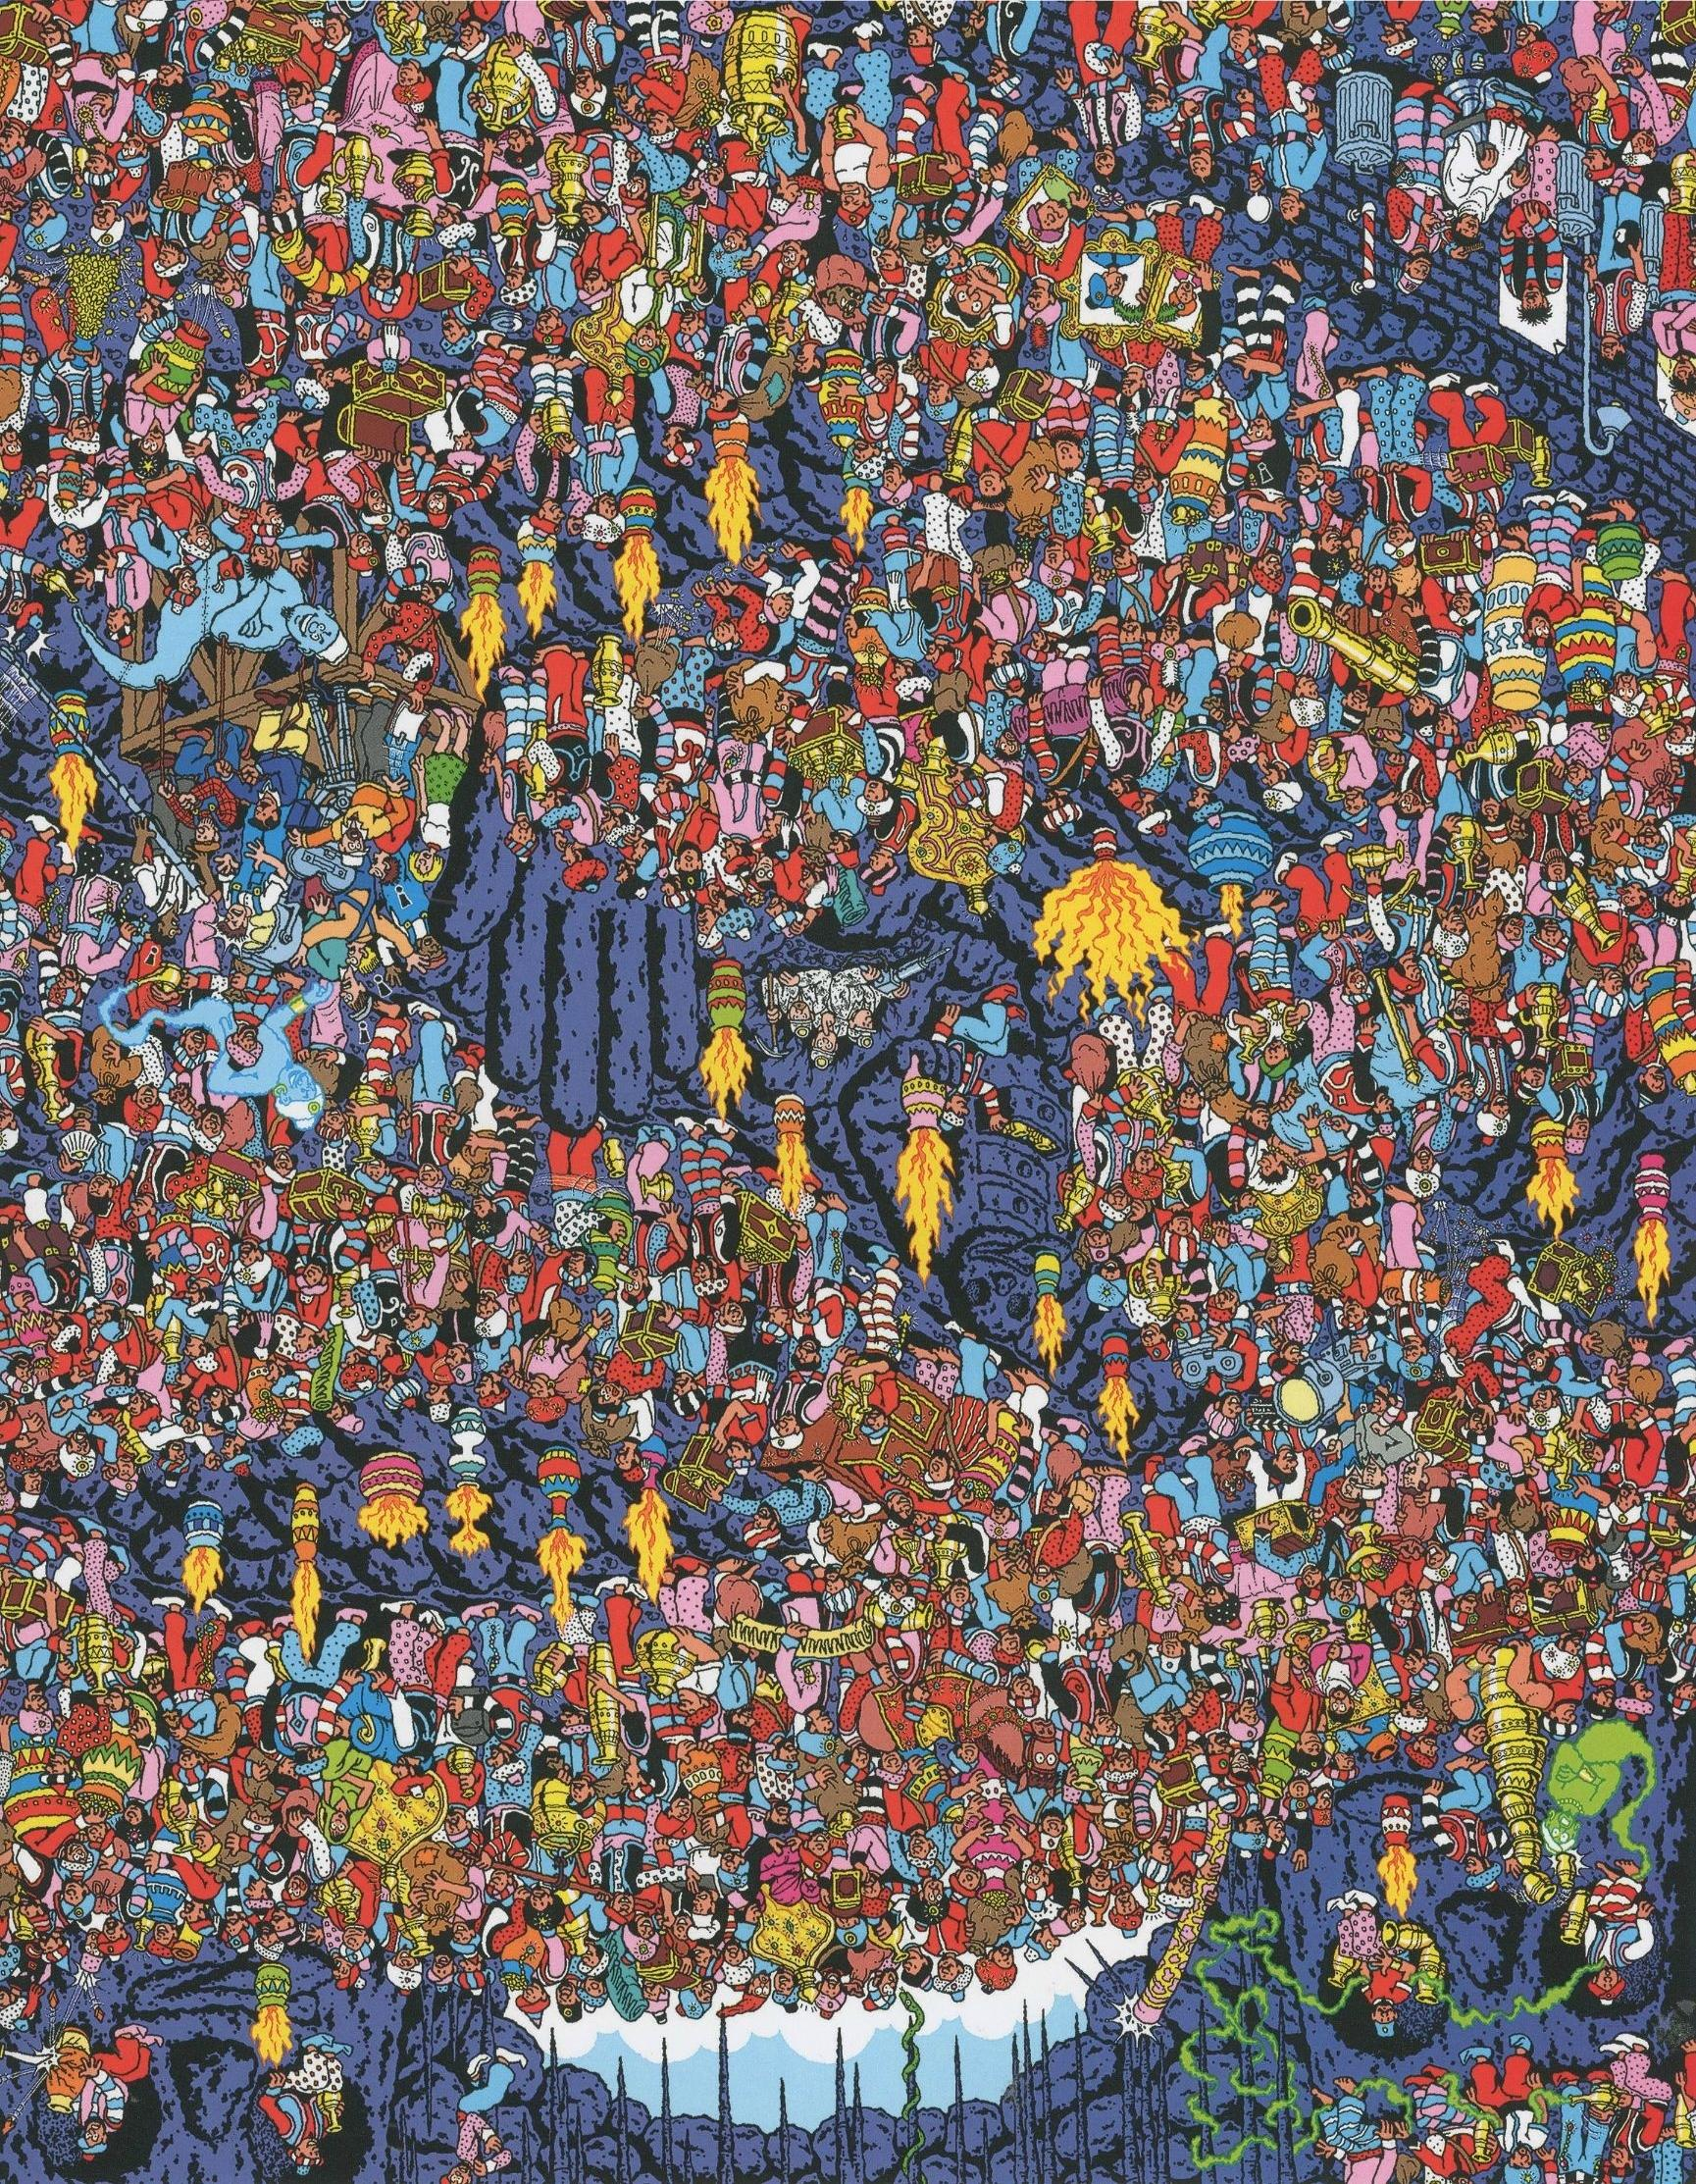waldos: (739, 838, 778, 902)
